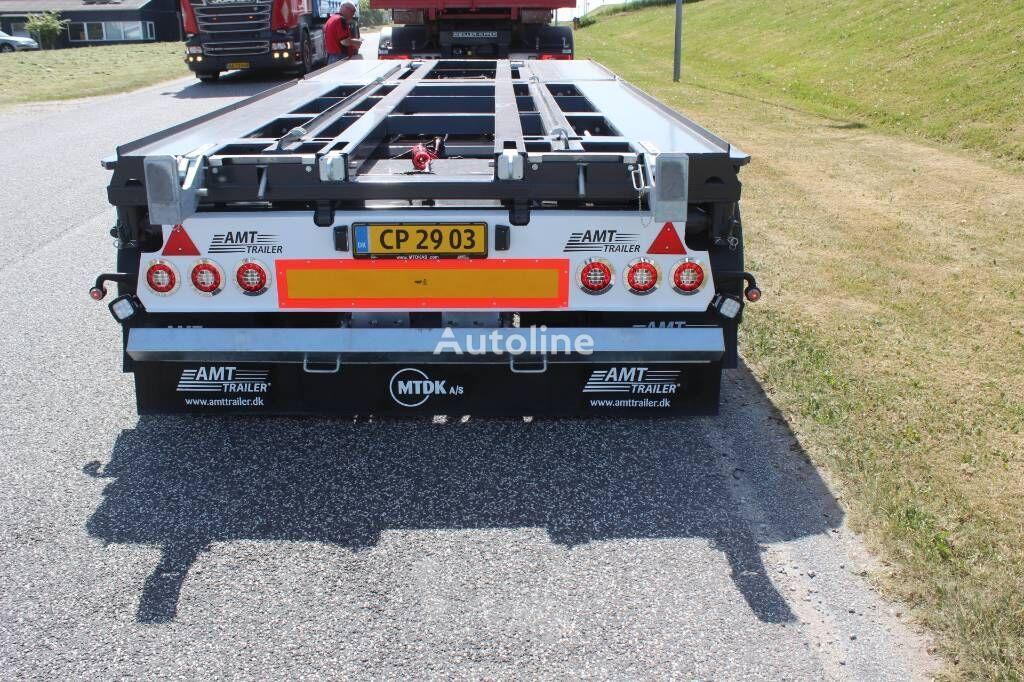license-plates: (348, 221, 489, 261)
